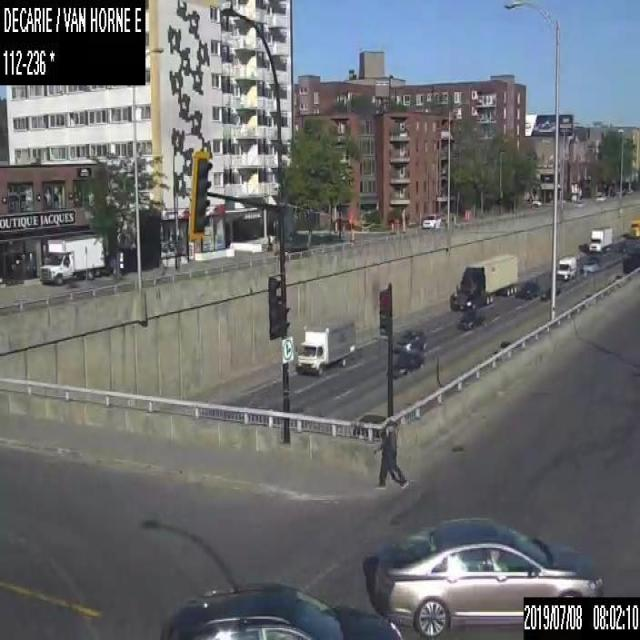pedestrian: (373, 418, 409, 490)
vehicle: (373, 514, 604, 634), (159, 583, 406, 639), (449, 254, 518, 308), (296, 319, 358, 376), (39, 232, 106, 284), (386, 354, 424, 379), (391, 328, 426, 354), (453, 308, 485, 330), (588, 225, 612, 254), (556, 255, 576, 280), (579, 256, 600, 278), (356, 412, 386, 425), (421, 212, 441, 228), (539, 285, 560, 300), (521, 280, 537, 296), (628, 215, 639, 237), (596, 190, 605, 200)
